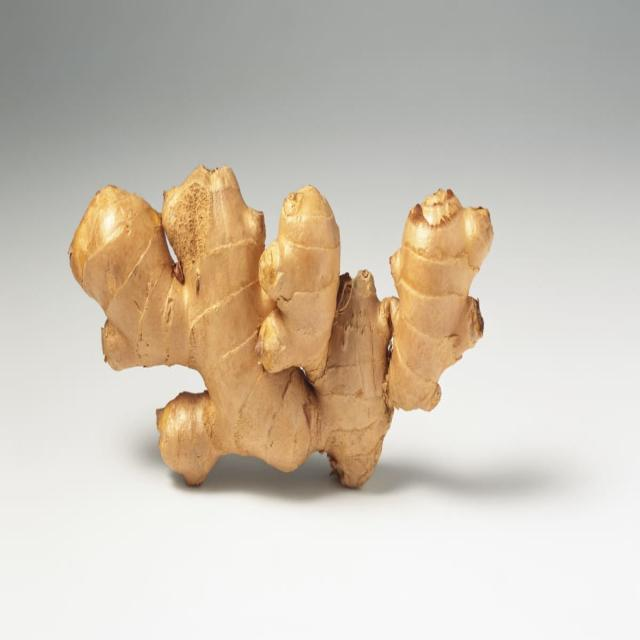ginger-root: (60, 152, 519, 514)
